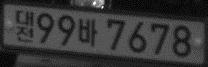6: (127, 21, 147, 53)
7: (106, 17, 125, 50), (150, 22, 169, 54)
8: (171, 24, 191, 57)
9: (57, 14, 76, 46), (36, 11, 54, 44)
대전_V: (15, 9, 35, 43)
바: (78, 17, 98, 46)
